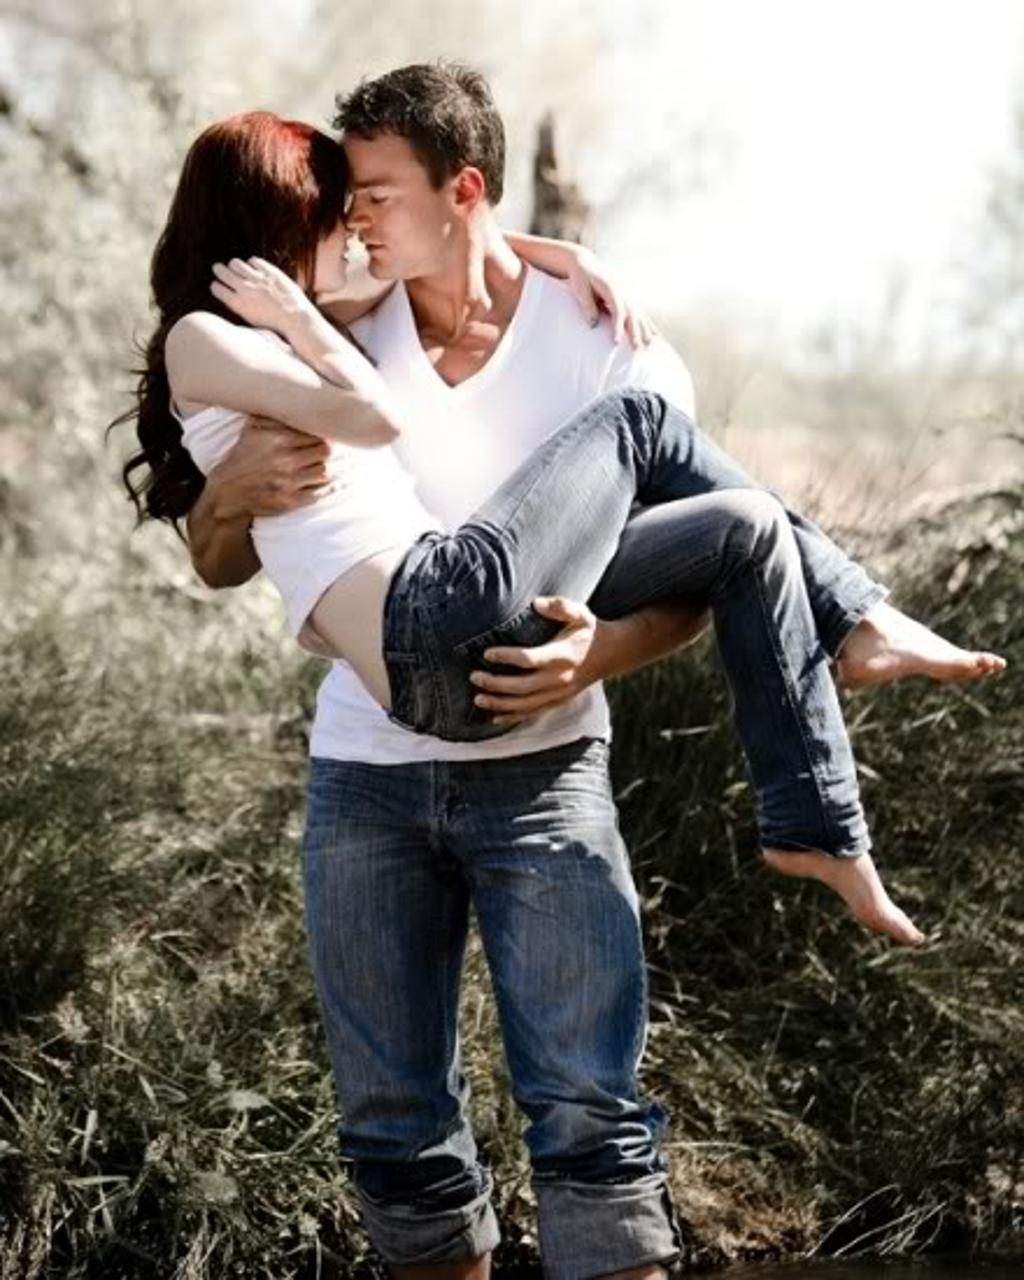face: (350, 137, 440, 282), (275, 145, 350, 292)
